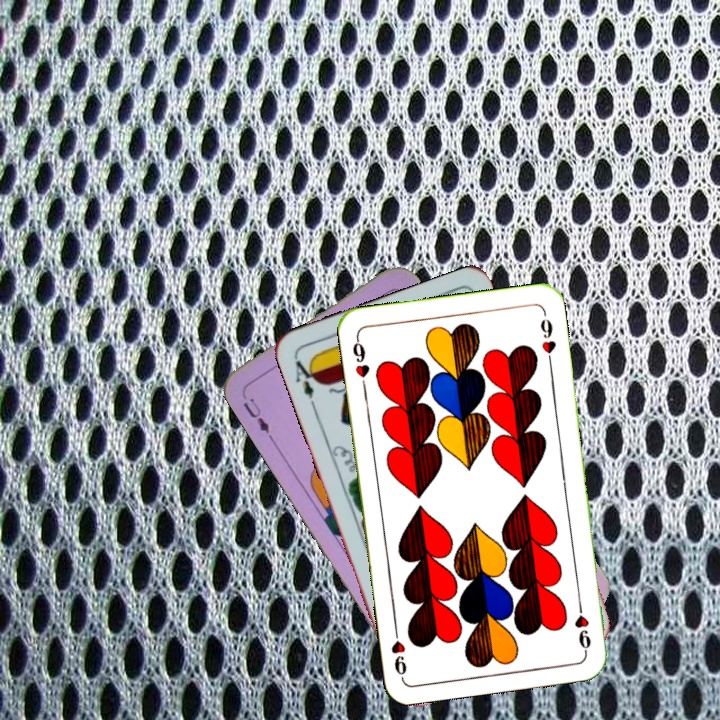EA: (290, 354, 322, 401)
EU: (239, 394, 272, 436)
H9: (348, 332, 372, 391), (571, 595, 594, 655)
